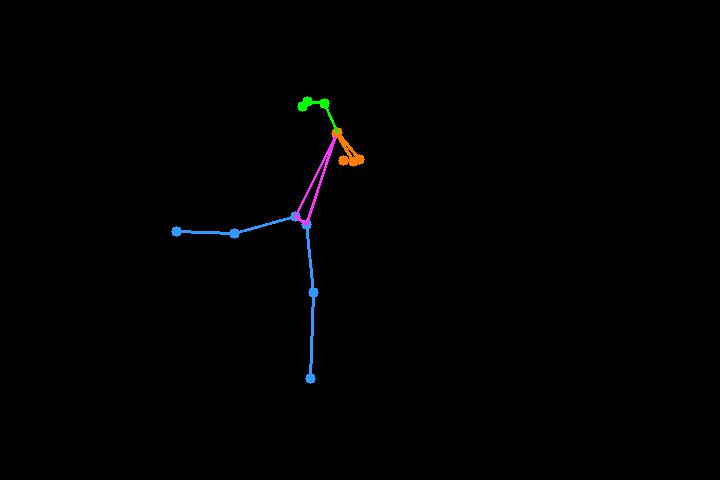normal: (156, 61, 391, 422)
